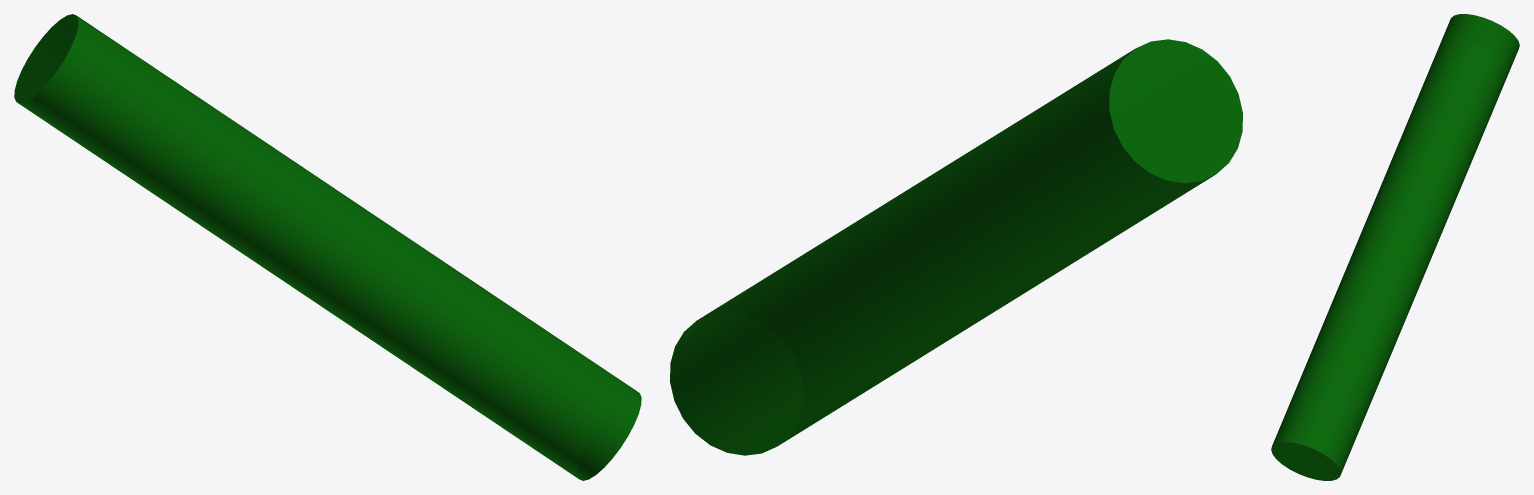
File: Event_421556567_jet_3.fbx
3 renders of one model, left to right at view 1: azimuth 30°, elevation 25°; view 2: azimuth 150°, elevation 25°; view 3: azimuth 270°, elevation 25°, orthographic. The views are drawn at different scales.
Parts seen in each view (by area): view 1: Model; view 2: Model; view 3: Model.
Part boxes in pixels (x1,y1,x2,y2): Model: (14,14,641,480); Model: (670,39,1242,455); Model: (1271,14,1519,480).
Size of the model in its own units: 0.219 by 0.1953 by 0.1331.
